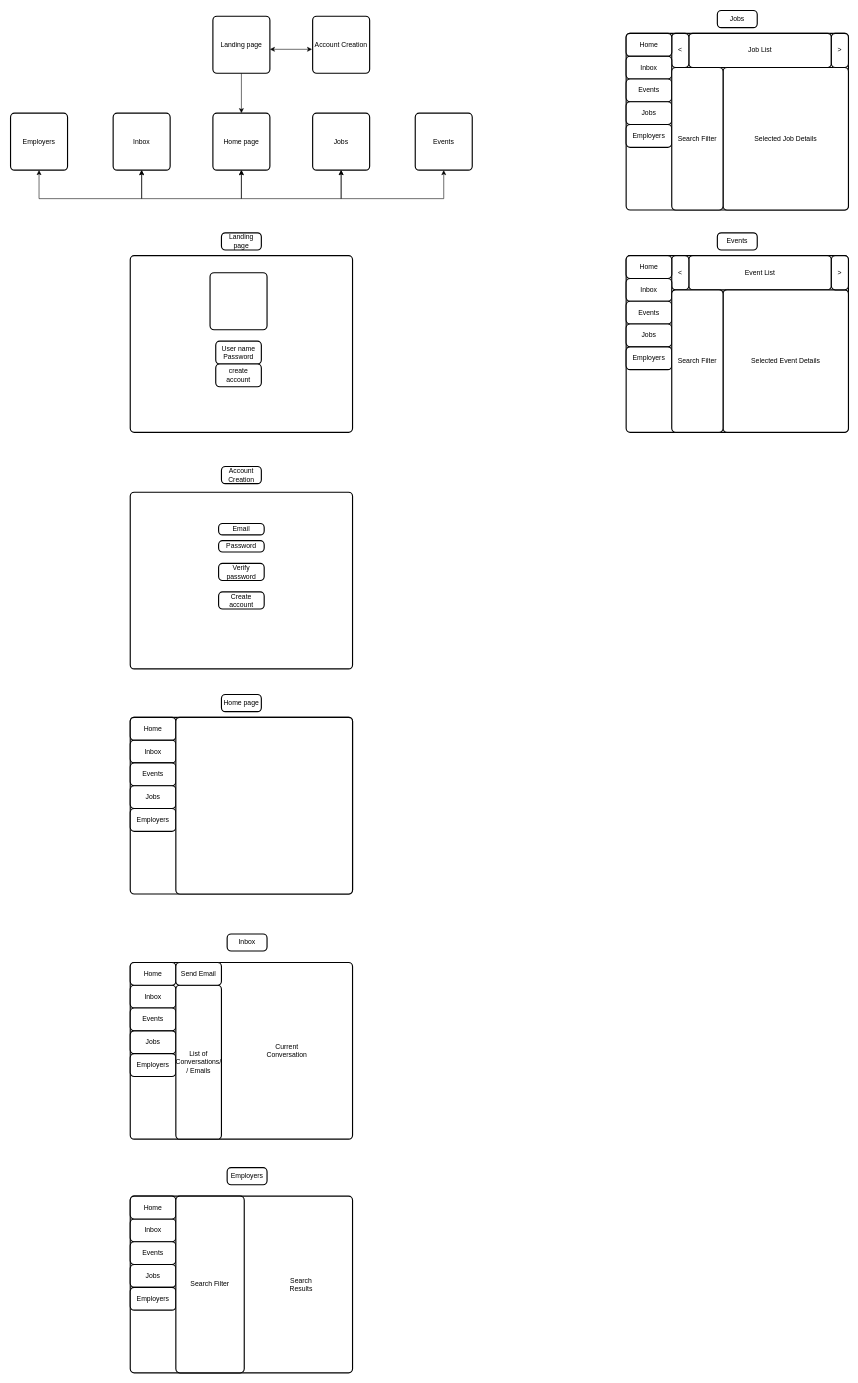
Some shapes in this 858 by 1383 pixel diagram are drawn without their labels. Here are the shapes that lost their labels. From the top down, the box of each, then its label:
(209, 272, 267, 330): Welcome to intertwine
(175, 716, 353, 894): User info
